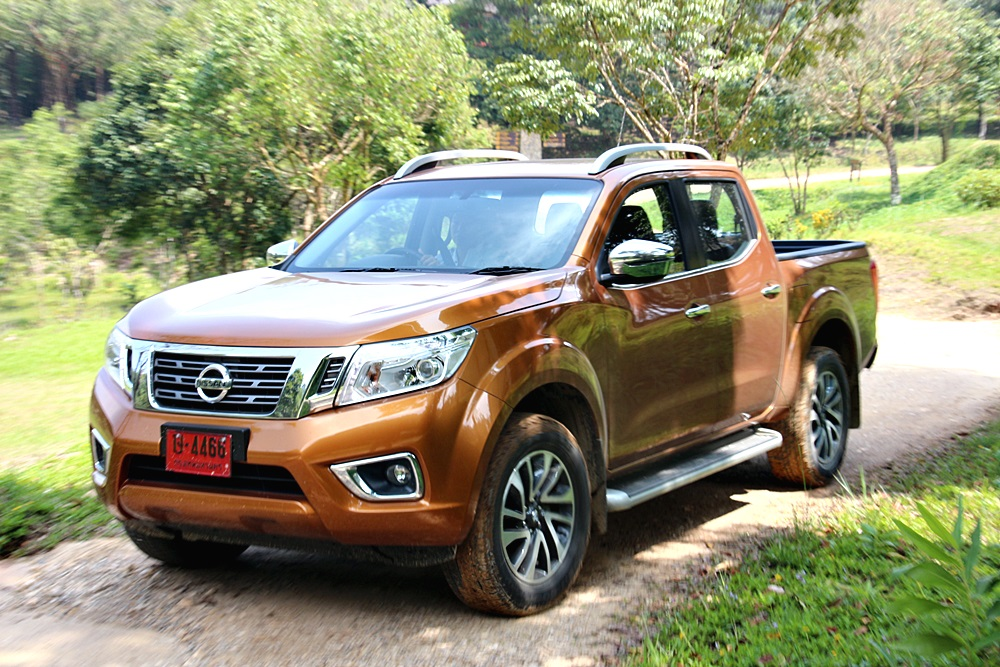pickup: (83, 147, 883, 615)
